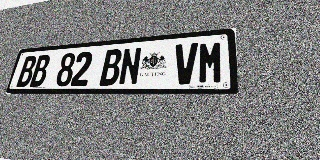2: (70, 51, 93, 86)
8: (54, 52, 77, 86)
B: (99, 49, 123, 86), (29, 54, 51, 87), (16, 56, 37, 87)
M: (198, 40, 223, 84)
N: (118, 47, 142, 85)
V: (173, 42, 198, 85)
